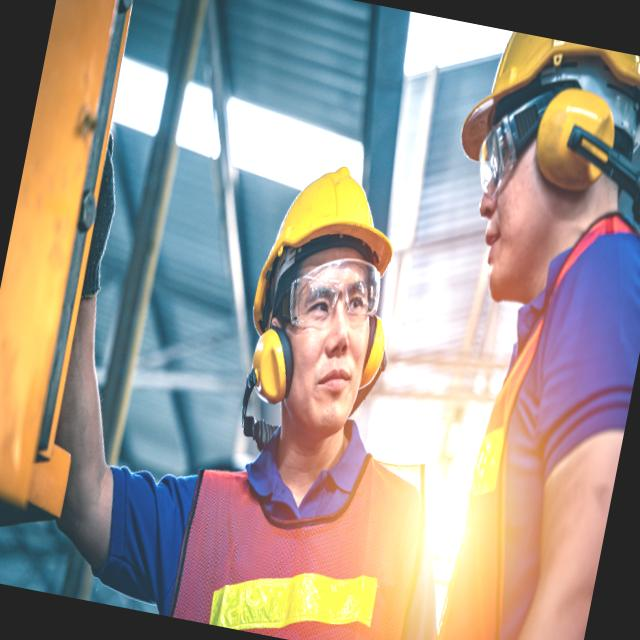goggles: (460, 88, 559, 199), (285, 245, 391, 342)
helmet: (253, 112, 425, 294), (441, 22, 640, 164)
vest: (431, 200, 640, 640), (168, 396, 448, 640)
